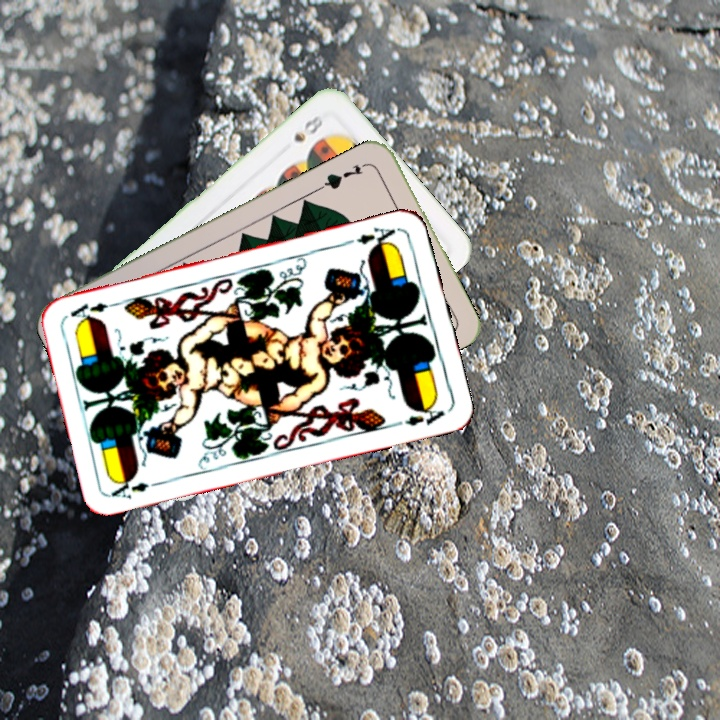EA: (107, 473, 166, 502), (352, 223, 403, 252)
G7: (317, 158, 372, 192)
S8: (289, 111, 326, 145)
